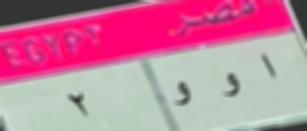2: (65, 89, 92, 121)
alif: (258, 53, 284, 84)
waw: (215, 69, 245, 104), (172, 77, 195, 112)
